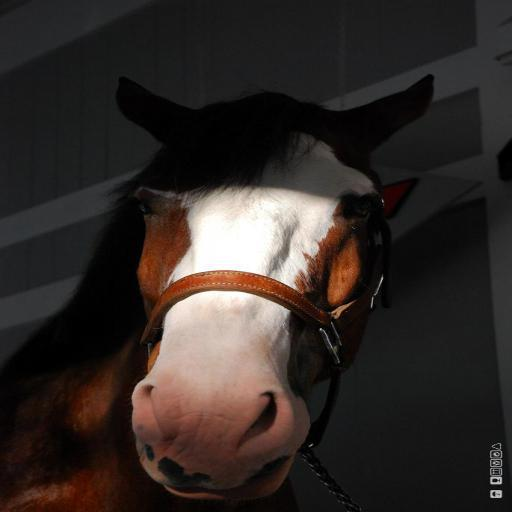Horse: (0, 72, 440, 511)
